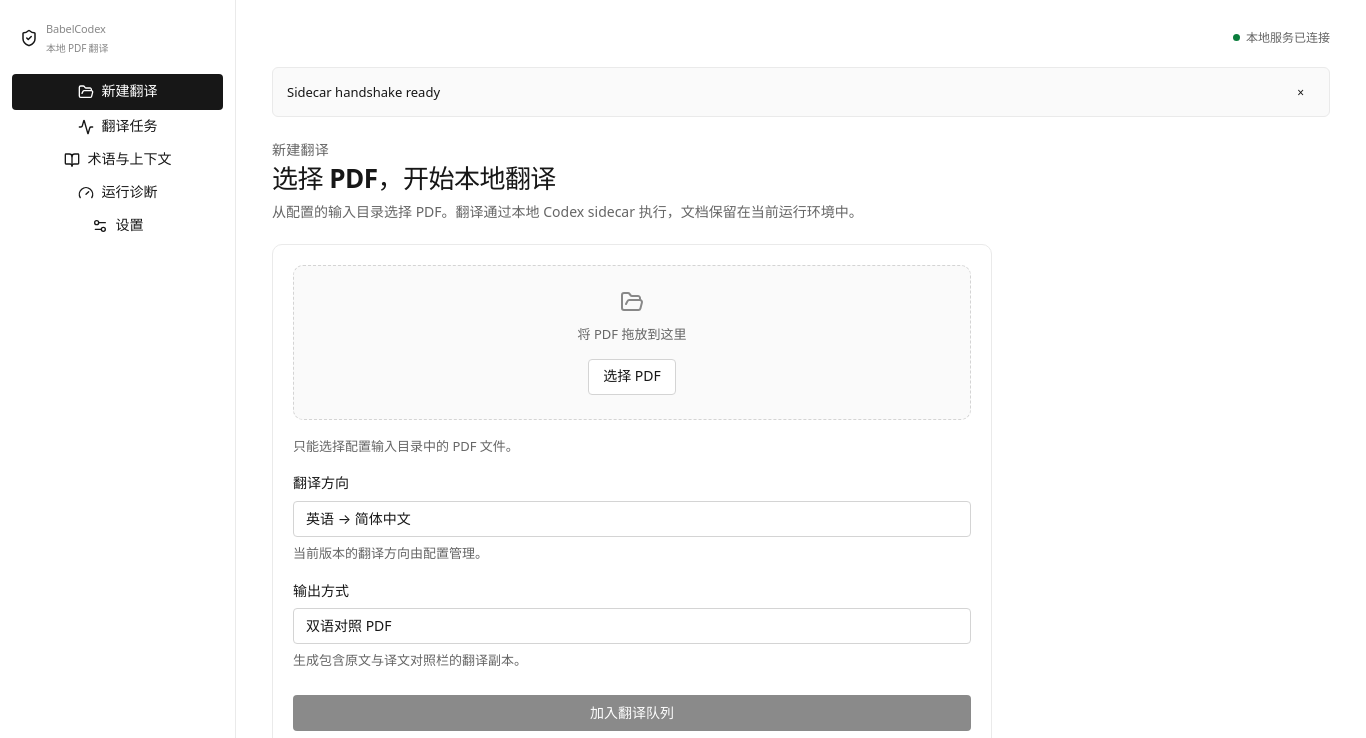
it: BabelCodex GUI shell › requires a document stem before document glossary operations
Expected: the text "本地服务已连接" is shown, [1246, 28, 1330, 47]
Click the button "术语与上下文".
click(118, 160)  # box [12, 144, 223, 176]
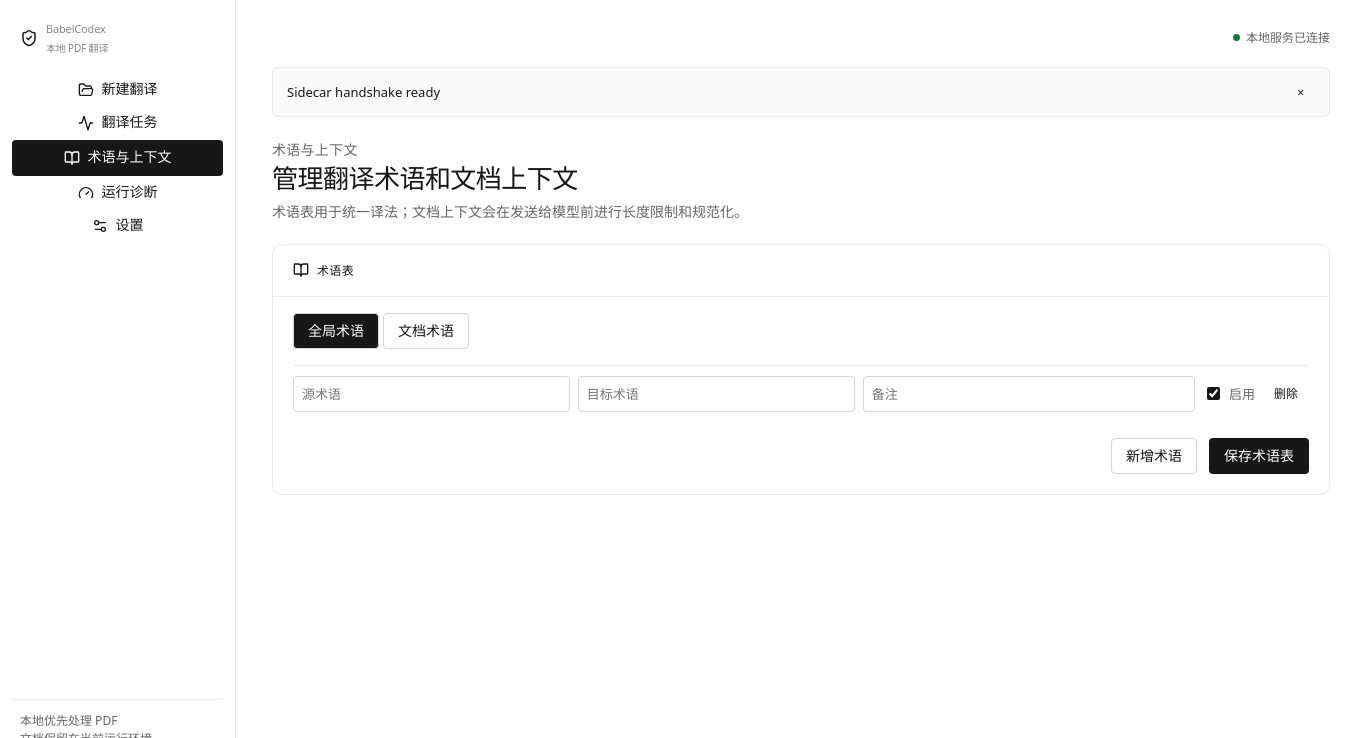
Click the button "文档术语".
click(426, 331)  # box [383, 313, 469, 349]
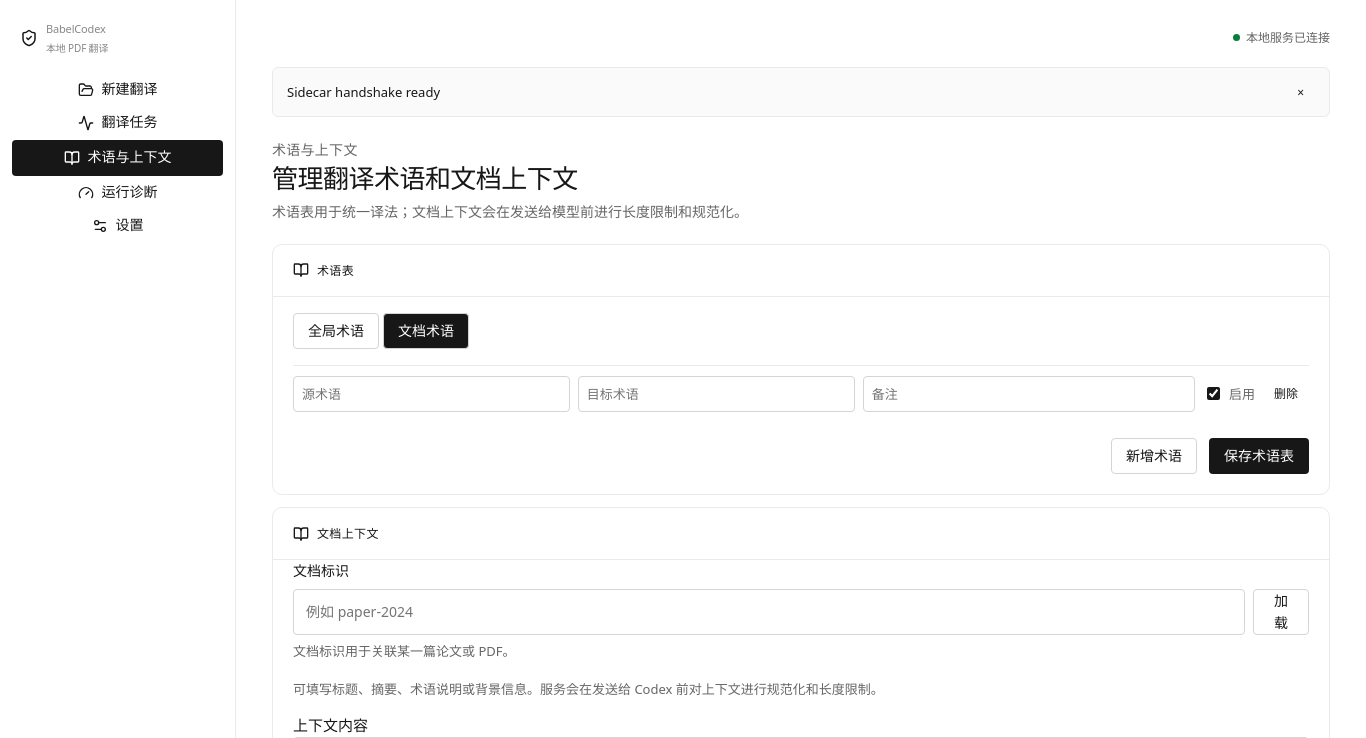
Click the button "加载".
click(1281, 612)  # box [1253, 588, 1309, 635]
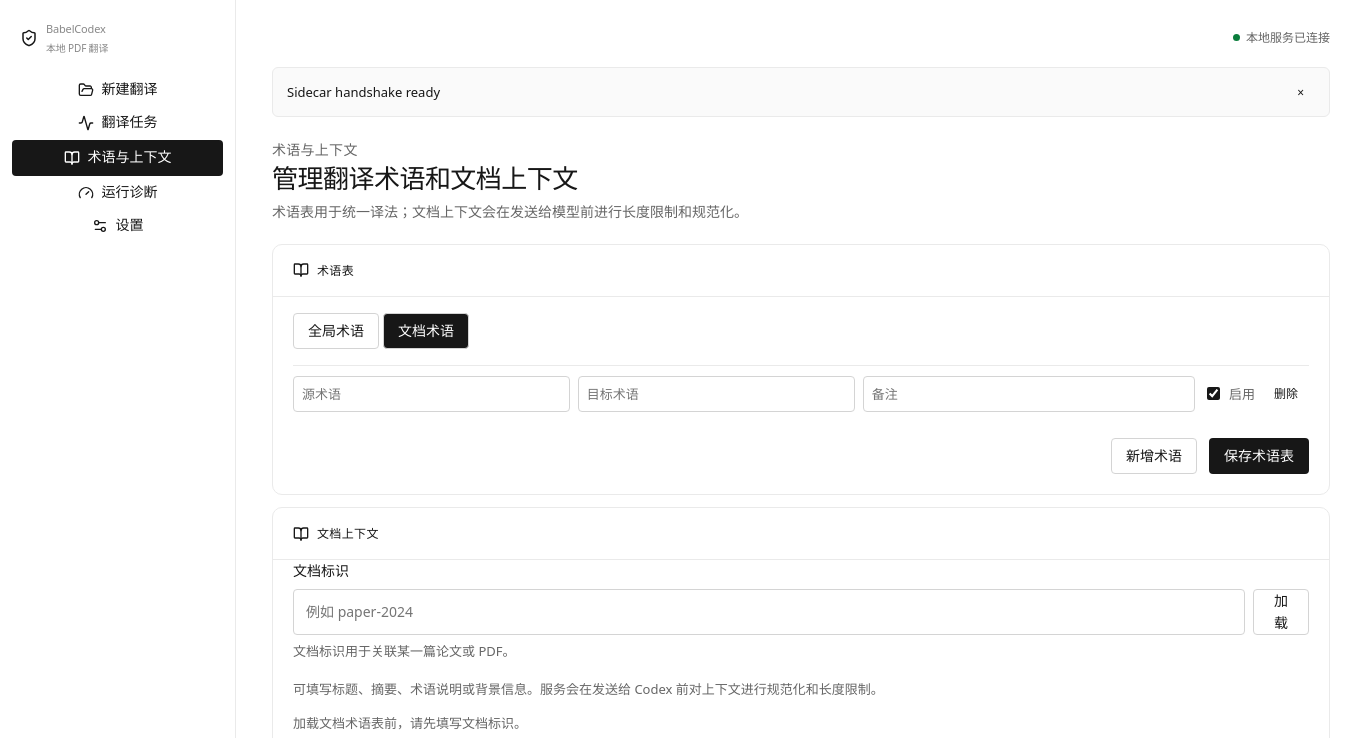
Expected: the text "加载文档术语表前，请先填写文档标识。" is shown, [293, 714, 527, 732]
